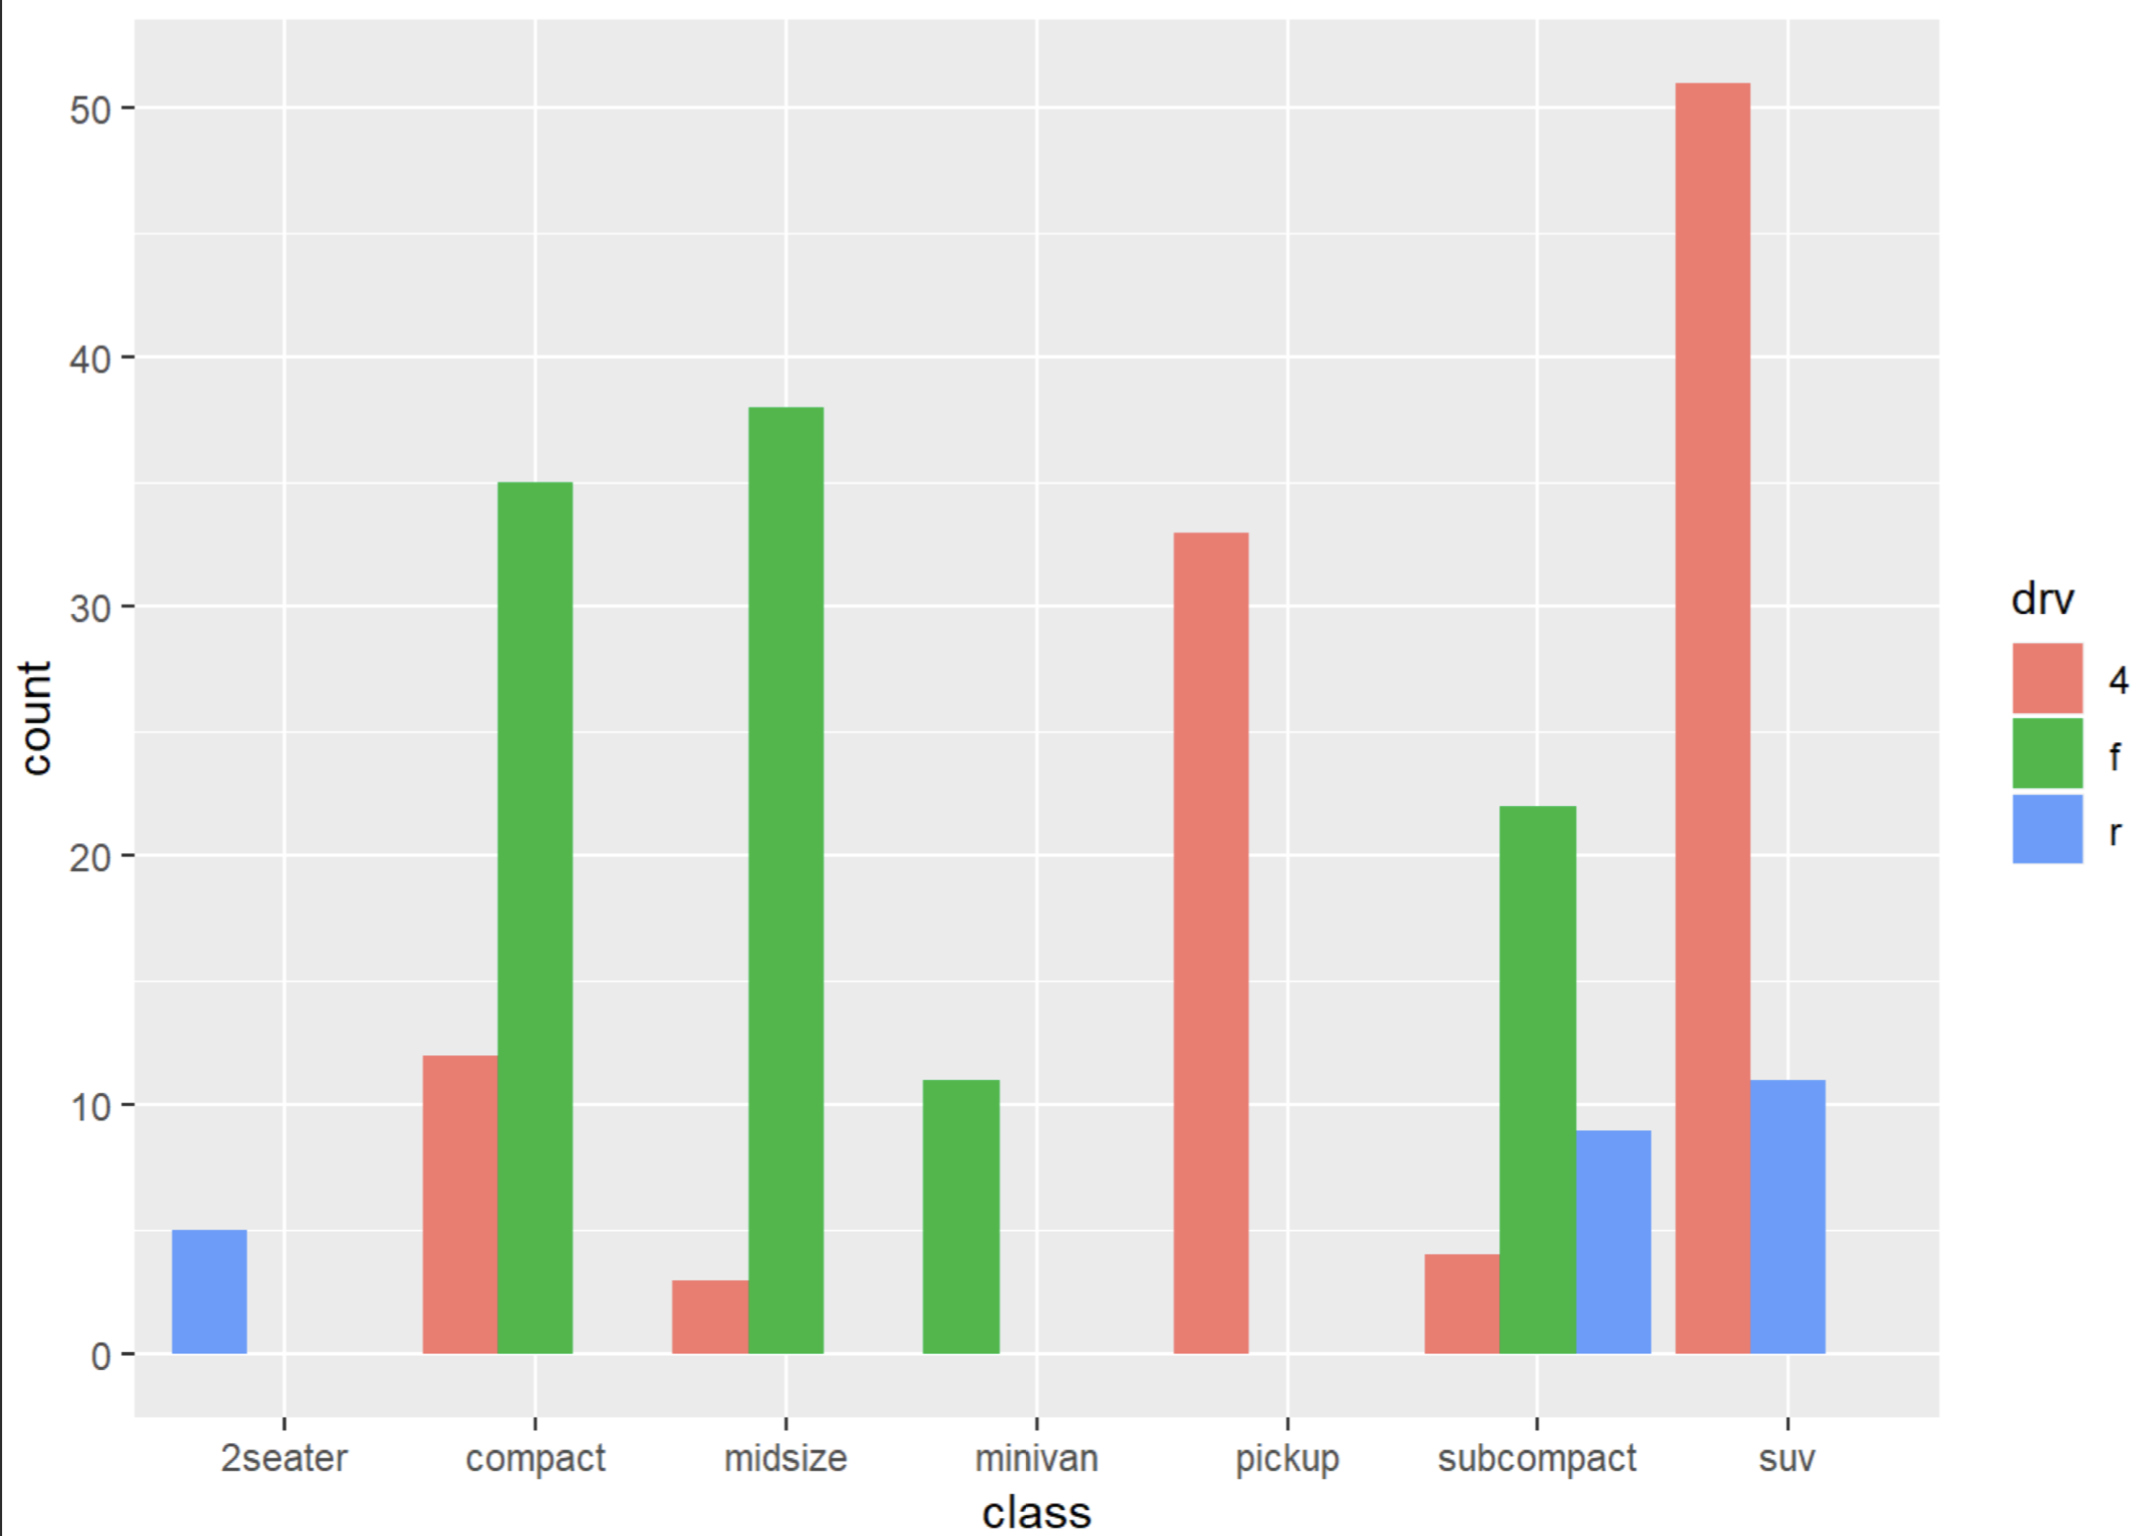canvas: (153, 70, 1847, 1363)
legend: (1995, 627, 2136, 882)
x-labels: (207, 1440, 1849, 1485)
x-title: (957, 1490, 1113, 1536)
y-labels: (66, 55, 121, 1408)
y-title: (7, 644, 56, 801)
